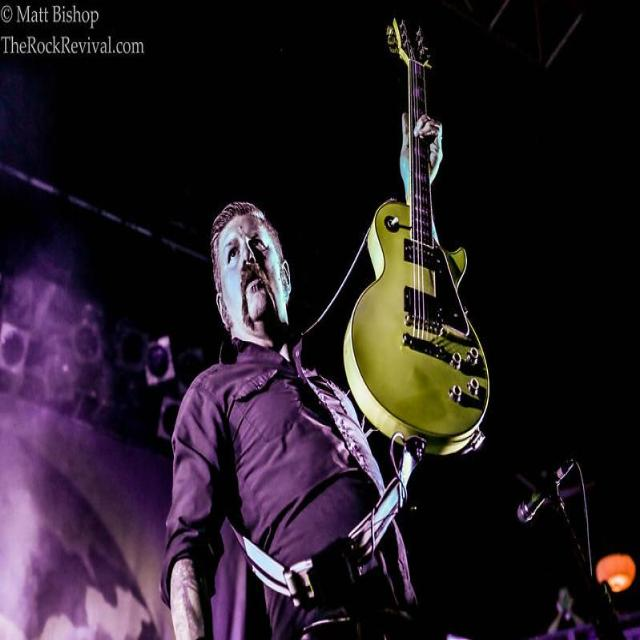guitar: (344, 135, 488, 453)
